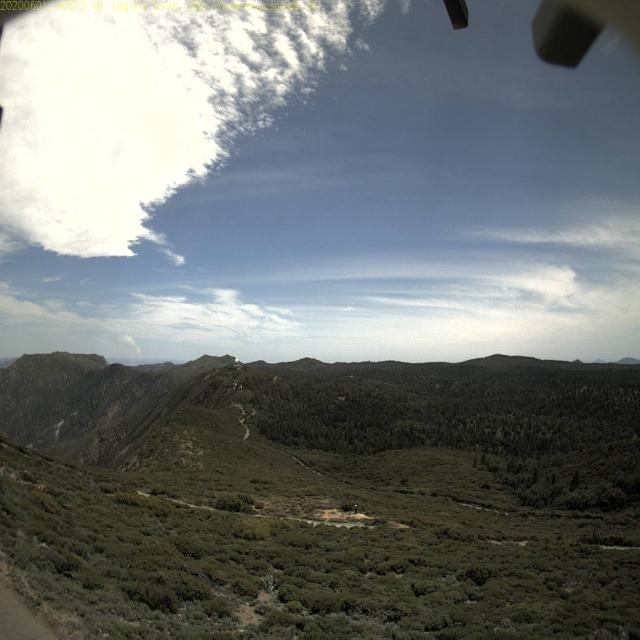smoke: (84, 331, 117, 367), (120, 333, 142, 368)
